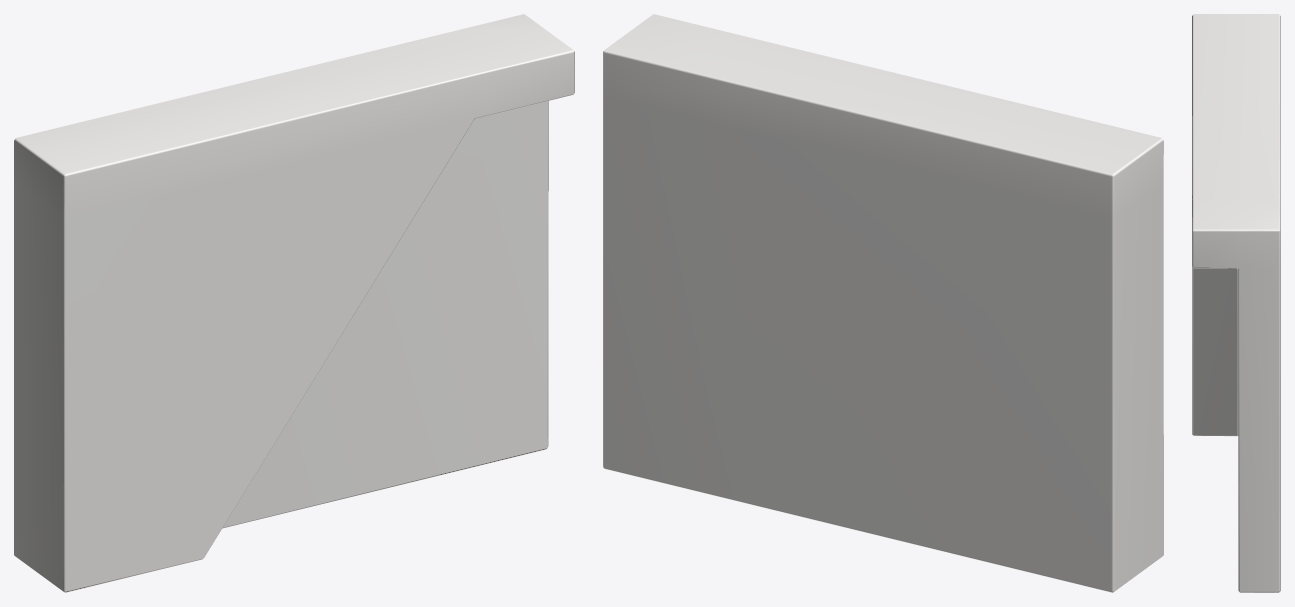
The model's file is Wall_15.glb.
3 views of the same model, side by side, from view 1: azimuth 30°, elevation 25°; view 2: azimuth 150°, elevation 25°; view 3: azimuth 270°, elevation 25° (orthographic). The views are drawn at different scales.
Visible parts, largest first — view 1: Wall_15; view 2: Wall_15; view 3: Wall_15.
Boxes of the visible parts, <box> form: Wall_15: <box>14,14,574,592</box>; Wall_15: <box>603,14,1163,592</box>; Wall_15: <box>1192,14,1280,592</box>.
Size of the model in its own units: 4.6 by 3.6 by 0.796.
Materials: 1 (1 with a texture image).
